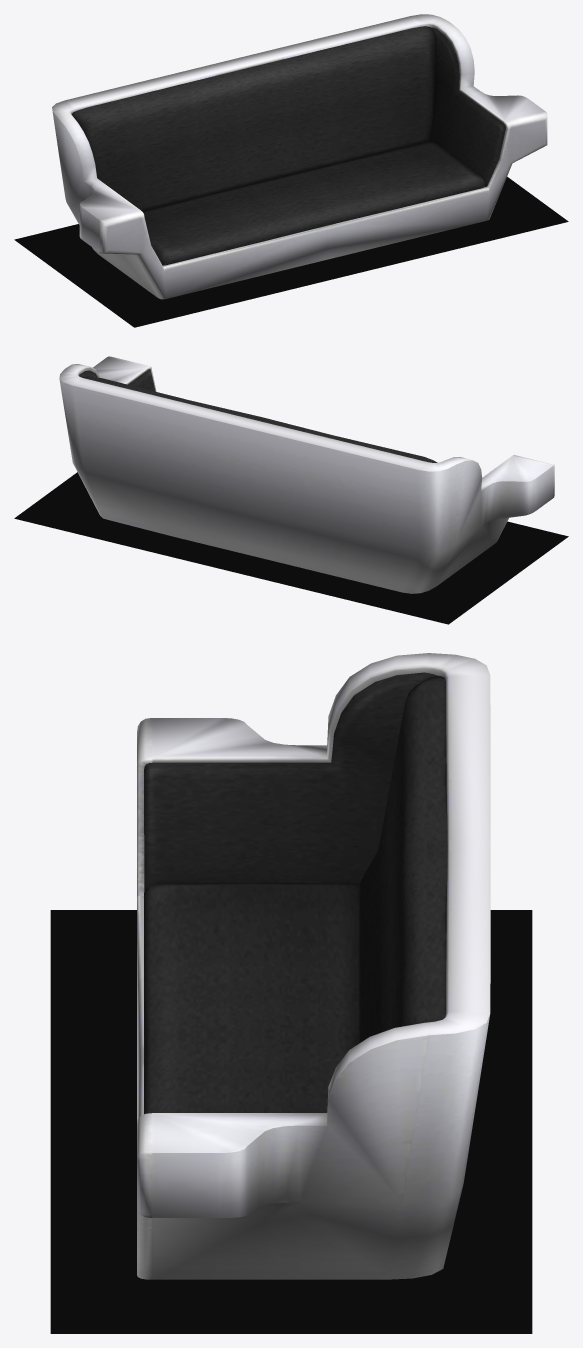
Rendered from long_black_sofa.glb.
3 renders of one model, top to bottom at view 1: azimuth 30°, elevation 25°; view 2: azimuth 150°, elevation 25°; view 3: azimuth 270°, elevation 25°, orthographic. The views are drawn at different scales.
Visible parts, largest first — view 1: Object_3, Object_4; view 2: Object_3, Object_4; view 3: Object_3, Object_4.
Boxes of the visible parts, x1,y1,x2,y2 form: Object_3: (52,14,547,299); Object_4: (14,176,568,327); Object_3: (59,356,554,593); Object_4: (14,472,568,624); Object_3: (137,653,490,1279); Object_4: (50,910,532,1333).
Bounding box in the file's own units: 15.51 × 4.57 × 7.25.
2 materials, 2 textured.
